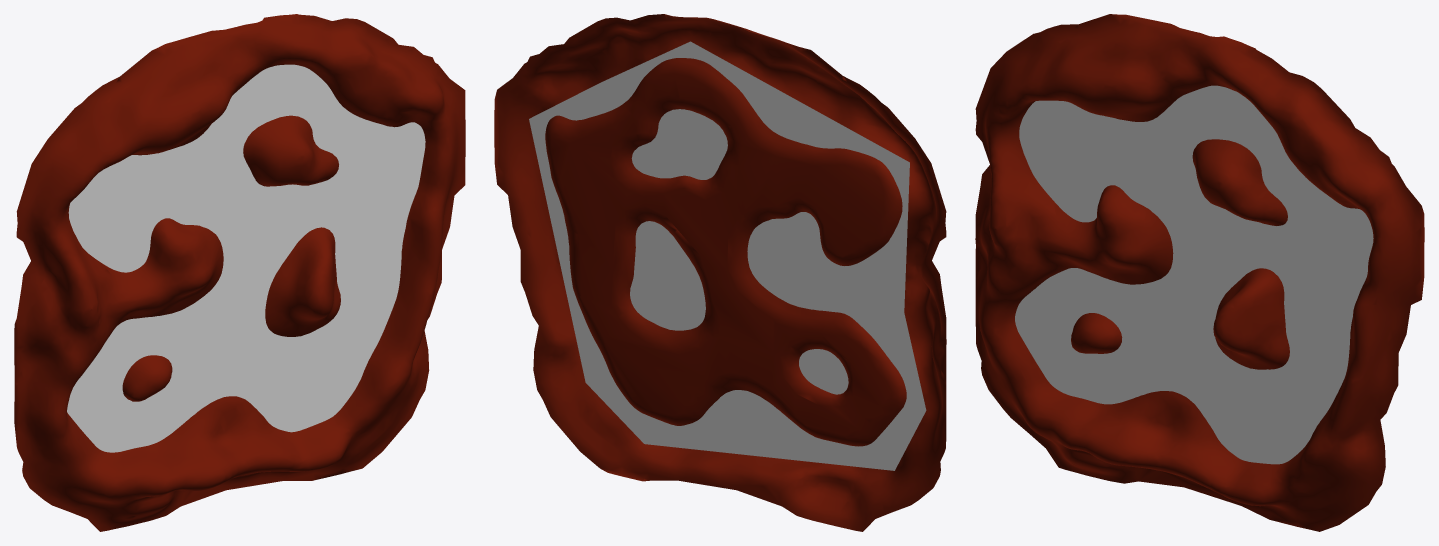
The model's file is testarena2.glb.
The picture shows the model from 3 angles, left to right: view 1: azimuth 30°, elevation 25°; view 2: azimuth 150°, elevation 25°; view 3: azimuth 330°, elevation 25°; orthographic projection.
Visible parts, largest first — view 1: terrain, __water__; view 2: terrain, __water__; view 3: terrain, __water__.
Boxes of the visible parts, bbox=[...] form: terrain: bbox=[14, 14, 465, 531]; __water__: bbox=[67, 64, 425, 452]; terrain: bbox=[494, 14, 946, 531]; __water__: bbox=[529, 41, 926, 470]; terrain: bbox=[975, 14, 1424, 531]; __water__: bbox=[1015, 85, 1373, 464].
Size of what is drawn, in the model's own units: 62.78 by 63.19 by 7.77.
